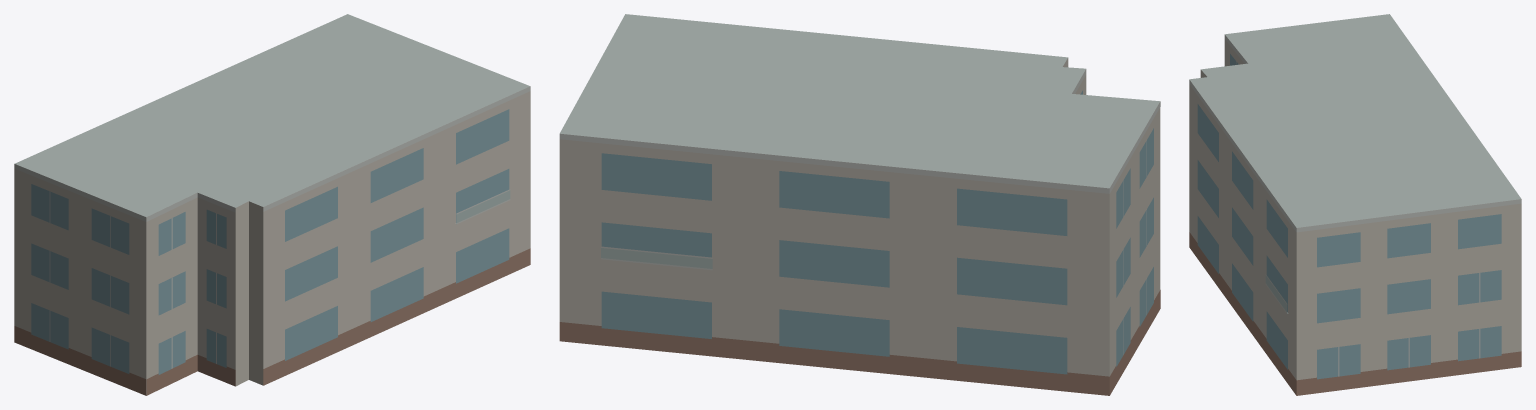
File: survey-upis-32618981.glb
The picture shows the model from 3 angles, left to right: view 1: azimuth 30°, elevation 25°; view 2: azimuth 150°, elevation 25°; view 3: azimuth 270°, elevation 25°; orthographic projection. The views are drawn at different scales.
Parts seen in each view (by area): view 1: survey-upis-32618981.tmp; view 2: survey-upis-32618981.tmp; view 3: survey-upis-32618981.tmp.
Part boxes in pixels (x1,y1,x2,y2): survey-upis-32618981.tmp: (14,14,530,395); survey-upis-32618981.tmp: (559,14,1160,395); survey-upis-32618981.tmp: (1189,14,1521,395).
Size of the model in its own units: 25.02 by 9.15 by 16.43.
